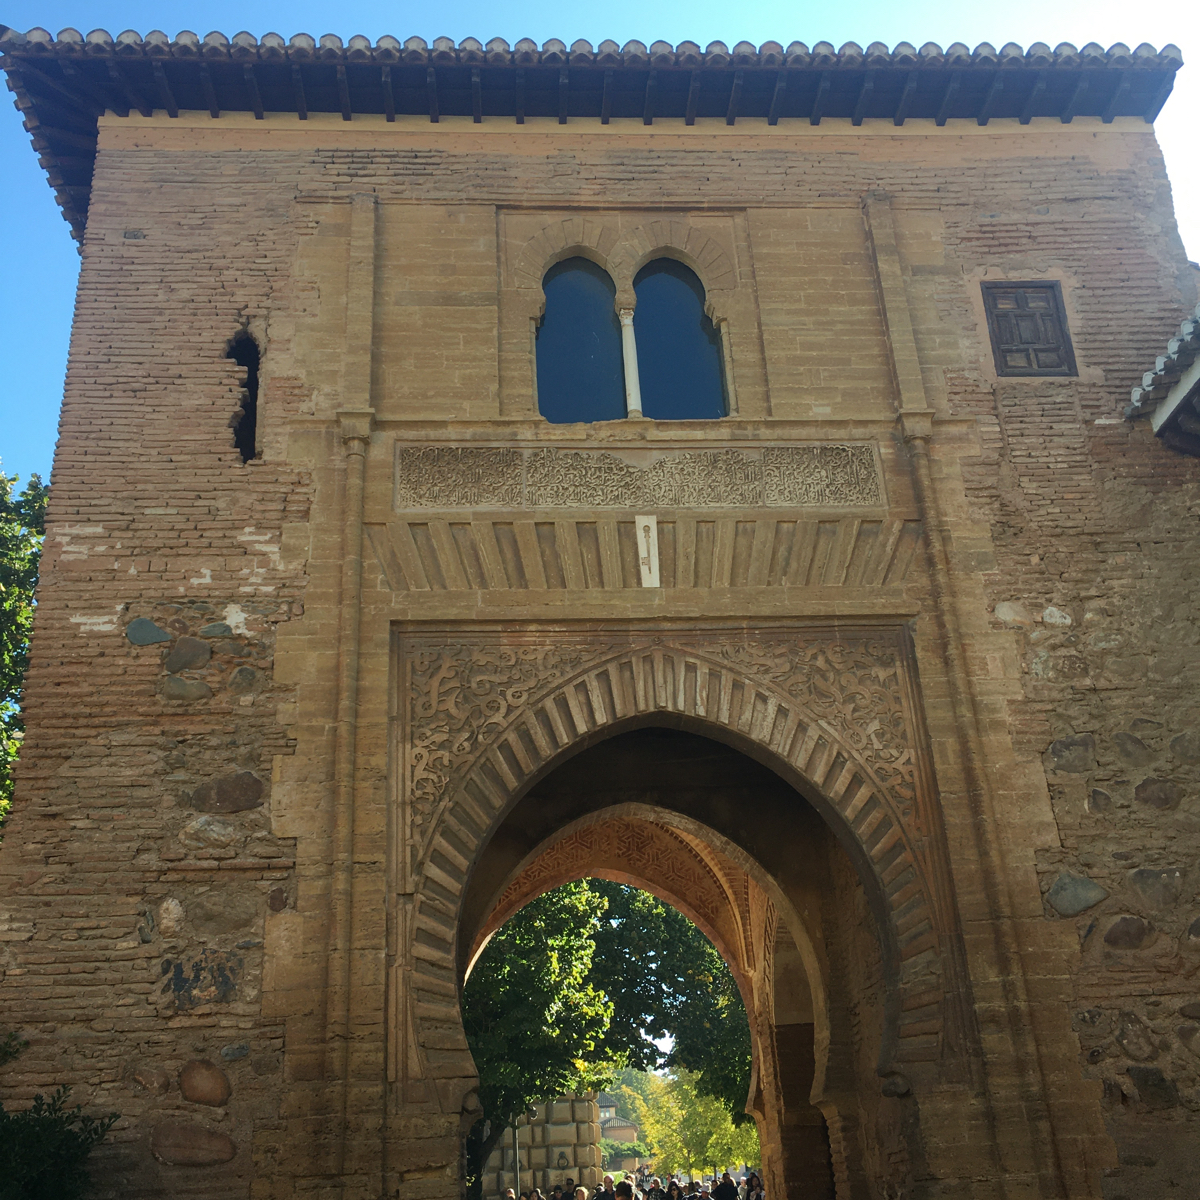arco-herradura: (392, 669, 930, 1122), (625, 237, 722, 319), (529, 238, 625, 319)
dintel-adovelado: (359, 500, 933, 607)
